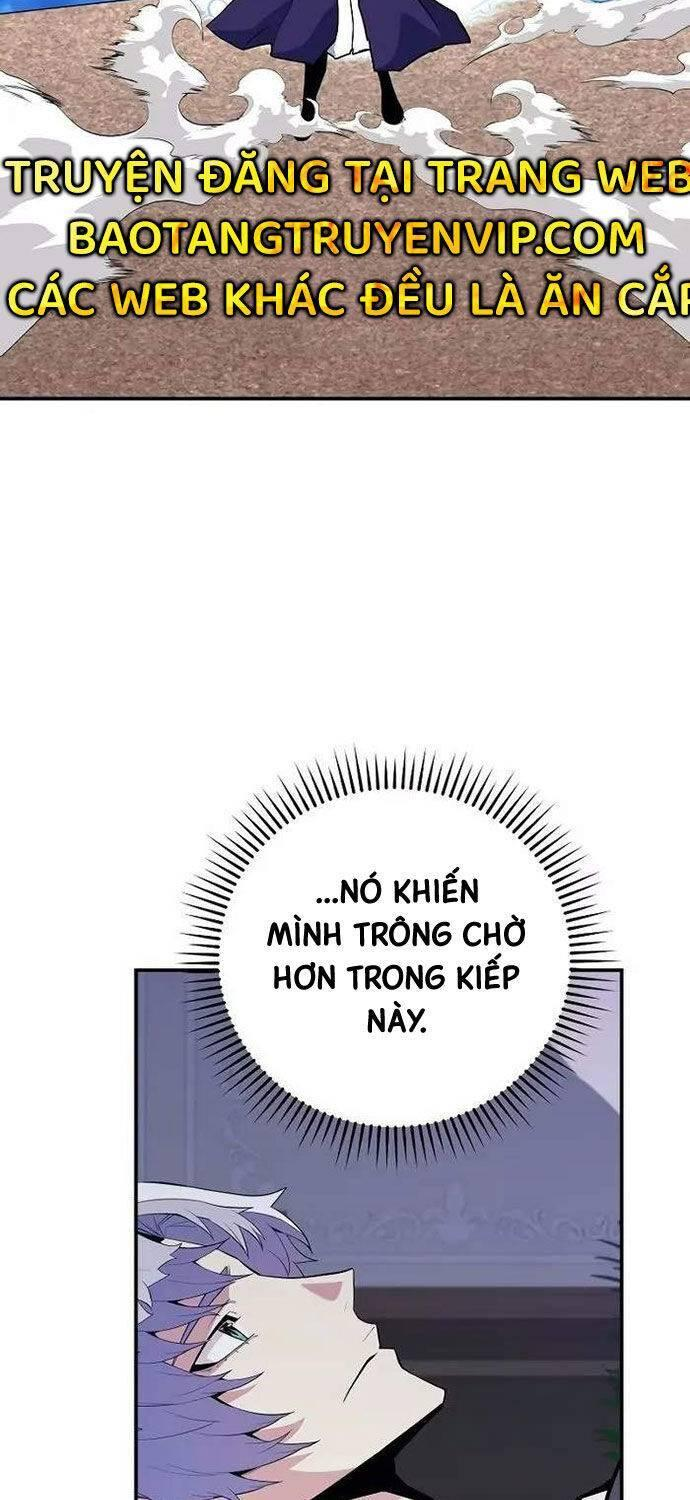quangcao: (8, 146, 690, 326)
